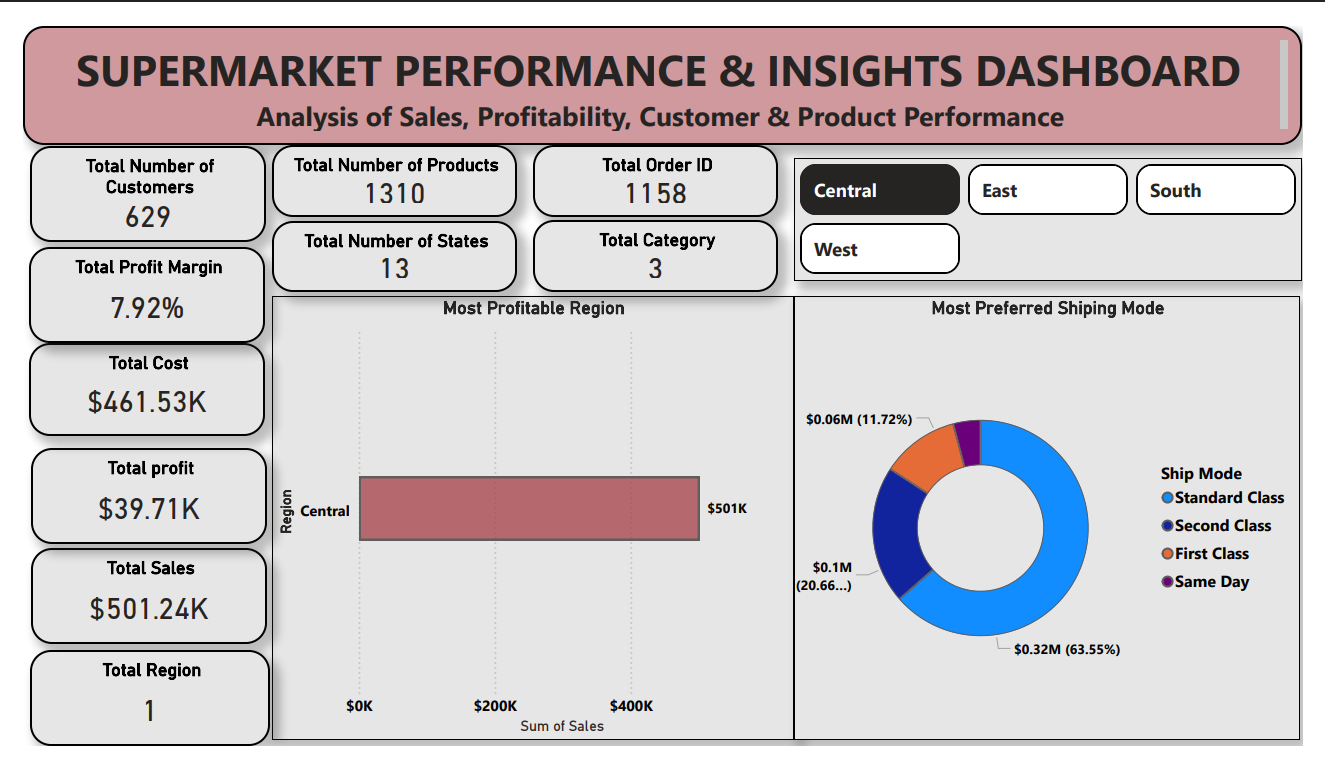

This screenshot's page, from the dashboard's own definition file:
{"tool":"powerbi","page":{"name":"Page 1","canvas":[1280,720],"ordinal":0},"visuals":[{"type":"textbox","box":[0,0,1279.4,119.1],"z":0},{"type":"card","title":"Total profit","fields":{"Values":["Sum(Sample - Superstore excel cleaned.Profit)"]},"box":[7.6,422,236.2,96.4],"z":1000},{"type":"card","title":"Total Number of Customers","fields":{"Values":["Count(Sample - Superstore excel cleaned.Customer ID)"]},"box":[7,120,236.2,96.4],"z":2000},{"type":"card","title":"Total Profit Margin","fields":{"Values":["Sample - Superstore excel cleaned.Profit Margin"]},"box":[5.7,221.1,236.2,96.4],"z":3000},{"type":"card","title":"Total Sales","fields":{"Values":["Sum(Sample - Superstore excel cleaned.Sales)"]},"box":[7.6,521.6,236.2,96.4],"z":4000},{"type":"card","title":"Total Category","fields":{"Values":["Count(Sample - Superstore excel cleaned.Category)"]},"box":[510.2,194,245,71.8],"z":5000},{"type":"card","title":"Total Region","fields":{"Values":["Count(Sample - Superstore excel cleaned.Region)"]},"box":[7,623.6,240,96.4],"z":6000},{"type":"clusteredBarChart","title":"Most Profitable Region","fields":{"Category":["Sample - Superstore excel cleaned.Region"],"Y":["Sum(Sample - Superstore excel cleaned.Sales)"]},"box":[249.5,270.2,521.6,444.1],"z":7000},{"type":"donutChart","title":"Most Preferred Shiping Mode","fields":{"Category":["Sample - Superstore excel cleaned.Ship Mode"],"Y":["Sum(Sample - Superstore excel cleaned.Sales)"]},"box":[771,270.2,506.5,444.1],"z":8000},{"type":"card","title":"Total Number of Products","fields":{"Values":["Count(Sample - Superstore excel cleaned.Product ID)"]},"box":[249.5,119.1,245,72],"z":9000},{"type":"card","title":"Total Number of States","fields":{"Values":["Count(Sample - Superstore excel cleaned.State)"]},"box":[249.5,194.6,245,71.8],"z":10000},{"type":"card","title":"Total Order ID","fields":{"Values":["Count(Sample - Superstore excel cleaned.Order ID)"]},"box":[510.2,119.1,245,71.8],"z":11000},{"type":"advancedSlicerVisual","fields":{"Values":["Sample - Superstore excel cleaned.Region"]},"box":[771,132.3,508.4,122.8],"z":12000},{"type":"card","title":"Total Cost","fields":{"Values":["Sample - Superstore excel cleaned.Total Cost"]},"box":[5.7,317.5,236.2,92.6],"z":13000}]}

Visuals, with their boxes in screenshot pixels (x1, y1, x2, y2), scaled from the page's 1280x720 canvas onto the 1325x766 screenshot:
textbox: Rect(0, 0, 1324, 127)
"Total profit" card: Rect(8, 449, 252, 552)
"Total Number of Customers" card: Rect(7, 128, 252, 230)
"Total Profit Margin" card: Rect(6, 235, 250, 338)
"Total Sales" card: Rect(8, 555, 252, 657)
"Total Category" card: Rect(528, 206, 782, 283)
"Total Region" card: Rect(7, 663, 256, 765)
"Most Profitable Region" clusteredBarChart: Rect(258, 287, 798, 760)
"Most Preferred Shiping Mode" donutChart: Rect(798, 287, 1322, 760)
"Total Number of Products" card: Rect(258, 127, 512, 203)
"Total Number of States" card: Rect(258, 207, 512, 283)
"Total Order ID" card: Rect(528, 127, 782, 203)
advancedSlicerVisual - Sample - Superstore excel cleaned.Region: Rect(798, 141, 1324, 271)
"Total Cost" card: Rect(6, 338, 250, 436)
